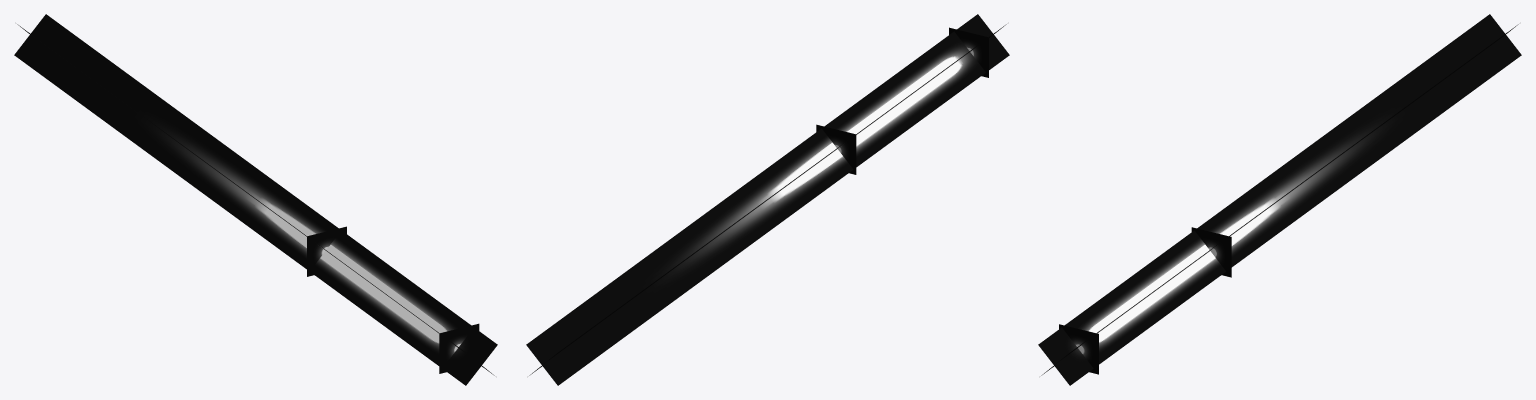
Rendered from plasmabillboard.FBX.
3 renders of one model, left to right at view 1: azimuth 30°, elevation 25°; view 2: azimuth 150°, elevation 25°; view 3: azimuth 330°, elevation 25°, orthographic.
Parts seen in each view (by area): view 1: Plasmabillboard; view 2: Plasmabillboard; view 3: Plasmabillboard.
Part boxes in pixels (x1,y1,x2,y2): Plasmabillboard: (14,14,497,385); Plasmabillboard: (526,14,1009,385); Plasmabillboard: (1038,14,1521,385).
Bounding box in the file's own units: 41.29 × 40.15 × 808.
